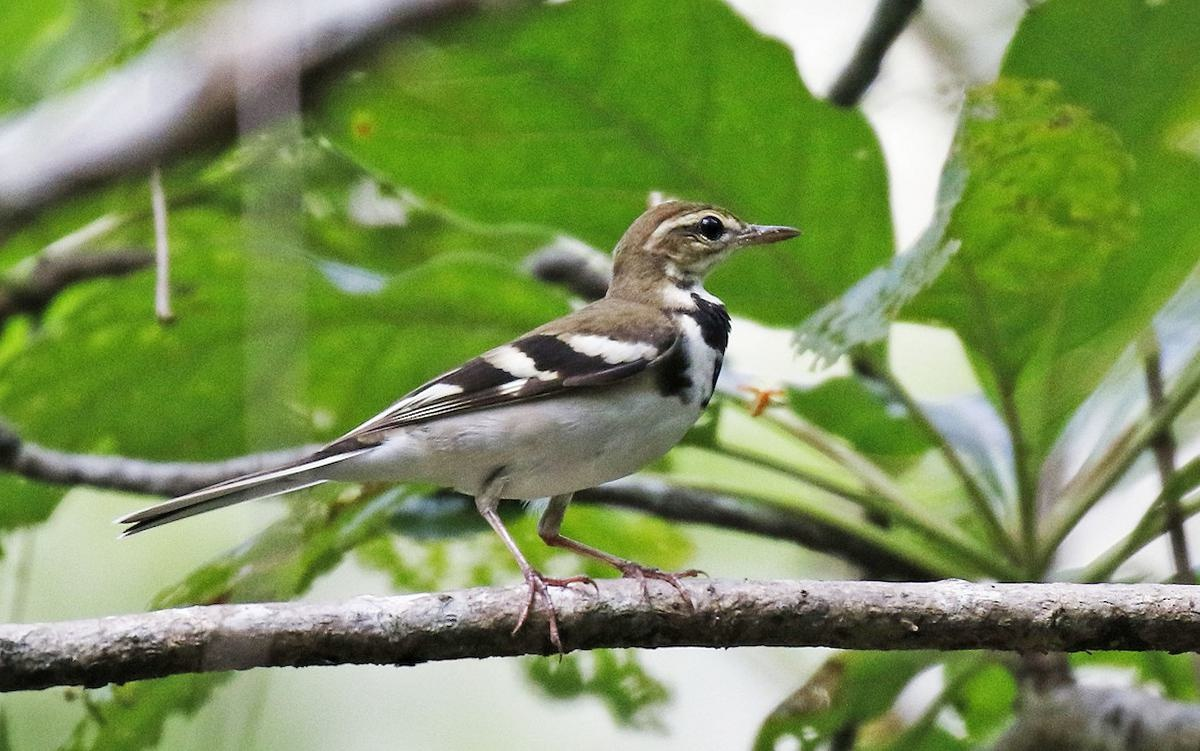wagtail: (199, 178, 789, 625)
